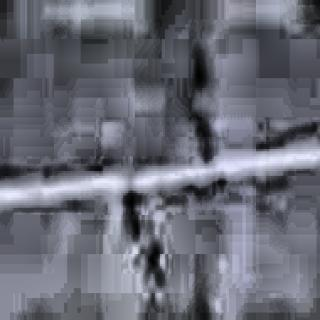crack: (125, 192, 169, 296)
